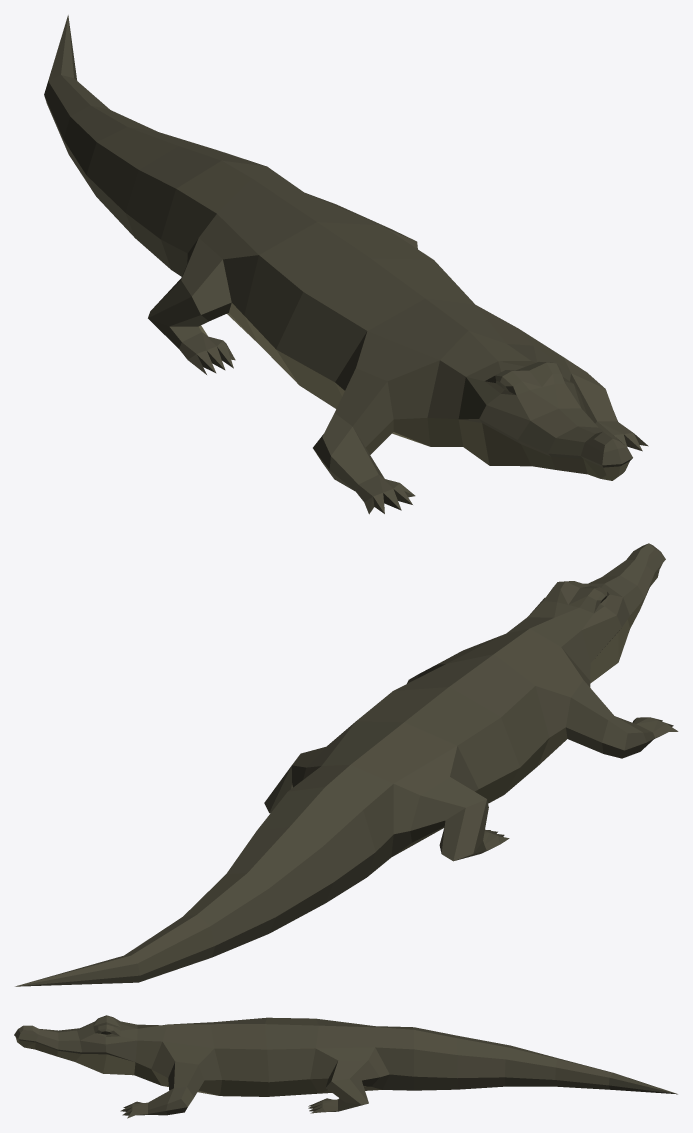
Rendered from Model_Wani.fbx.
3 views of the same model, one above another, from view 1: azimuth 30°, elevation 25°; view 2: azimuth 150°, elevation 25°; view 3: azimuth 270°, elevation 25° (orthographic). The views are drawn at different scales.
Visible parts, largest first — view 1: Wani; view 2: Wani; view 3: Wani.
Boxes of the visible parts, box(x1,y1,x2,y2) form: Wani: box(44, 15, 648, 514); Wani: box(15, 543, 678, 986); Wani: box(14, 1015, 677, 1118).
Size of the model in its own units: 117 by 51.68 by 482.
